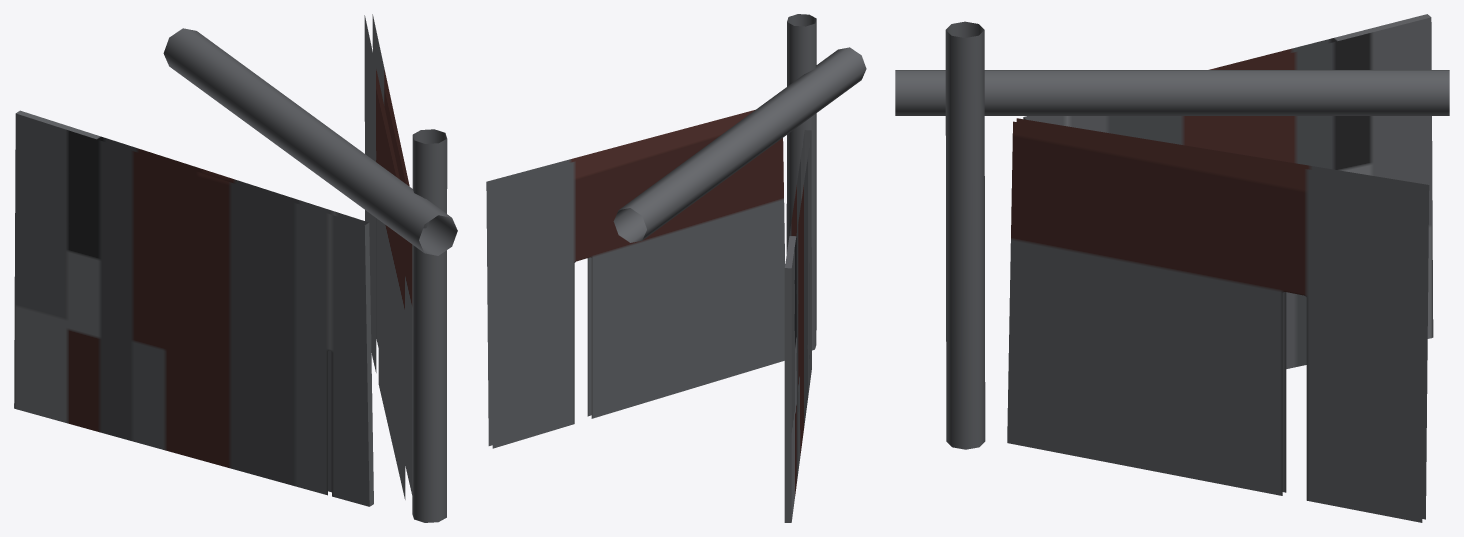
Rendered from section-0.obj.
3 views of the same model, side by side, from view 1: azimuth 30°, elevation 25°; view 2: azimuth 150°, elevation 25°; view 3: azimuth 270°, elevation 25° (orthographic). The views are drawn at different scales.
Size of the model in its own units: 0.9652 by 0.9801 by 1.2.
